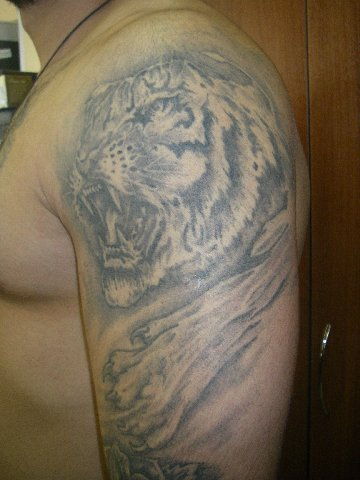tatu5_tigr: (46, 35, 308, 304)
